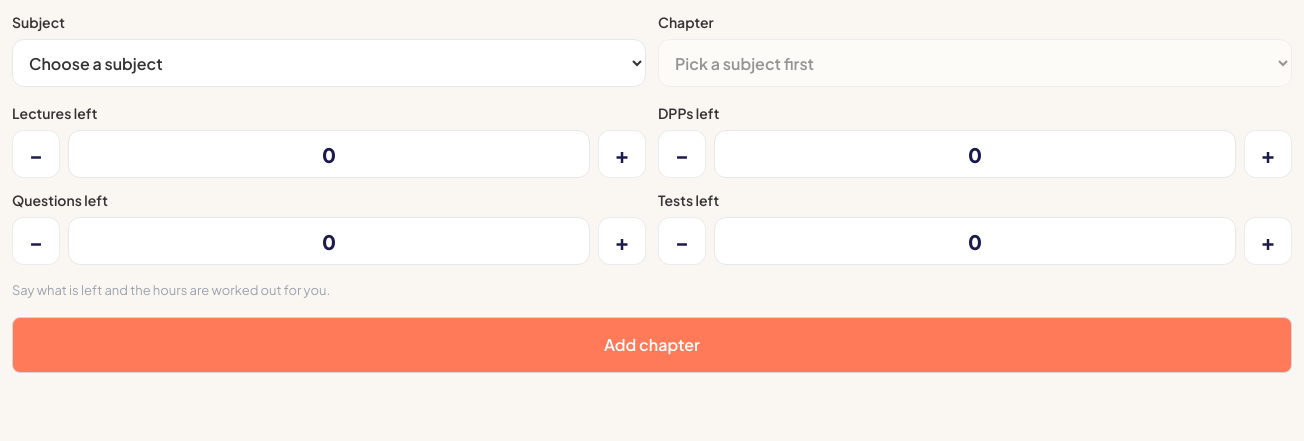
Test case: Backlog fast intake › works out the hours as the numbers are typed, then adds the chapter and says which lane and why
Expected: the text with test id "intake-estimate" shows "Say what is left", [12,282,330,298]
Select "Physics" in the dropdown labelled "Subject" at (329, 63), box [12,39,646,87]
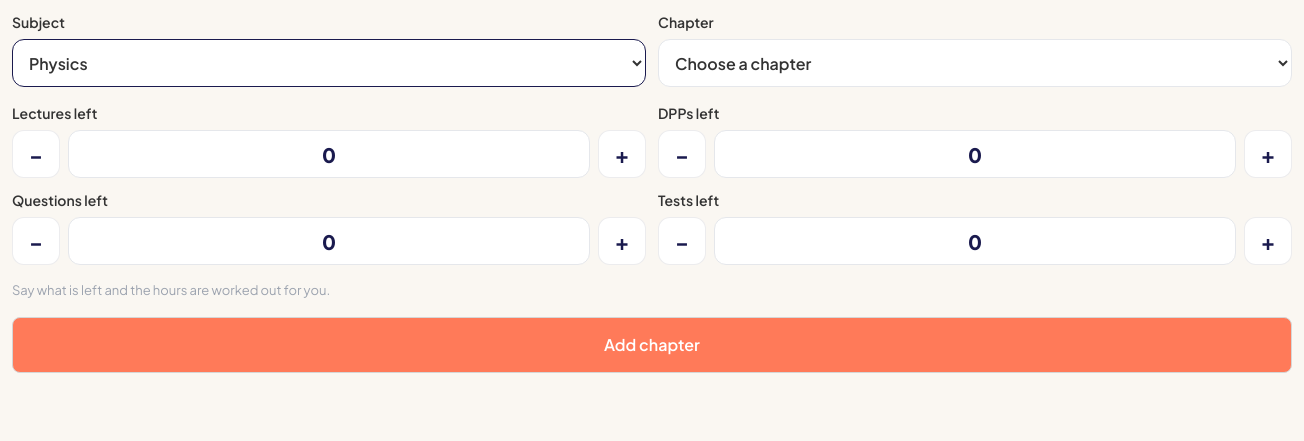
Select "Kinematics" in the dropdown labelled "Chapter" at (975, 63), box [658,39,1292,87]
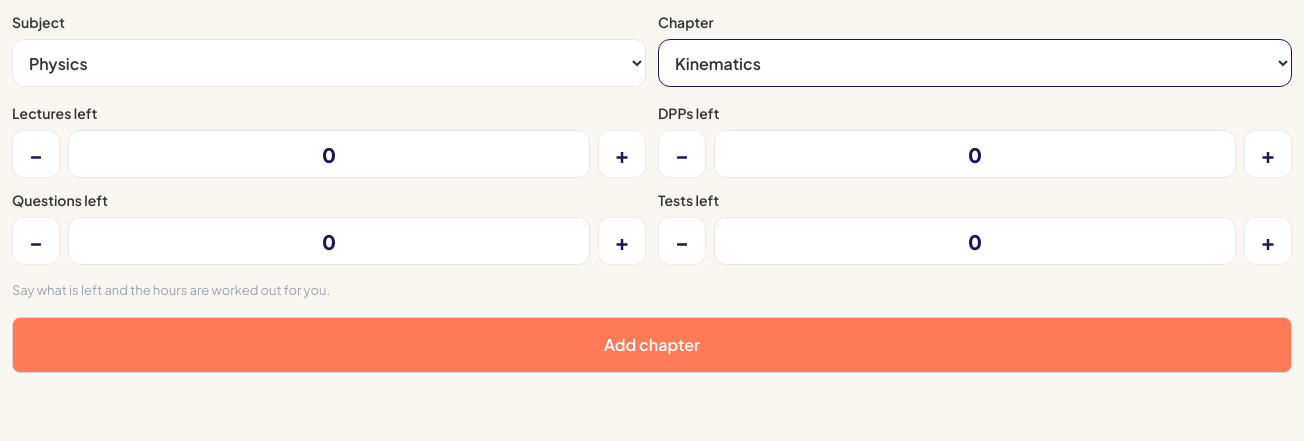
Type "4" into the field with test id "intake-lectures" at (329, 154), box [68,130,590,178]
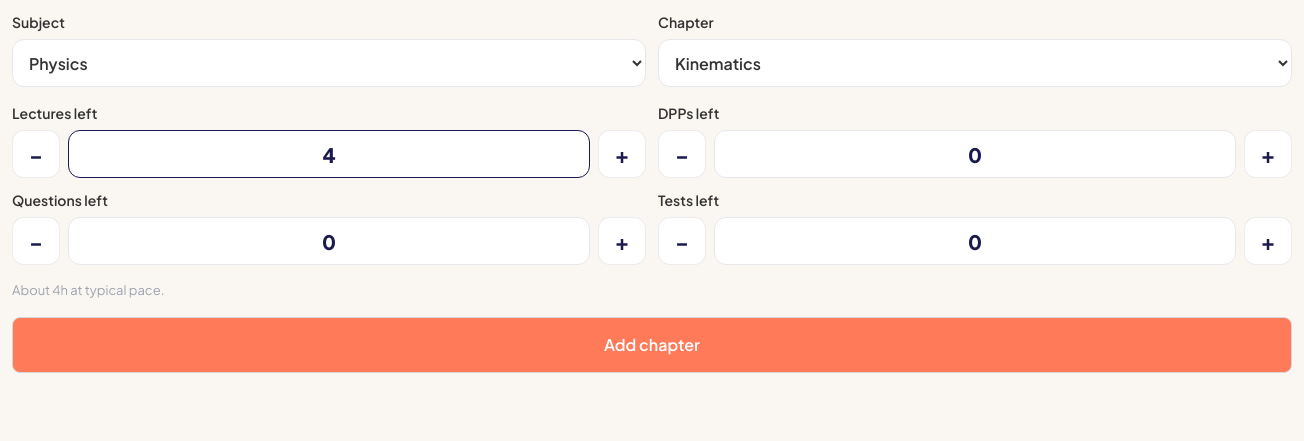
Now the text with test id "intake-estimate" shows "About 4h at typical pace", box [12,282,164,298]
Click the button with test id "intake-submit" at (652, 344), box [12,316,1292,372]
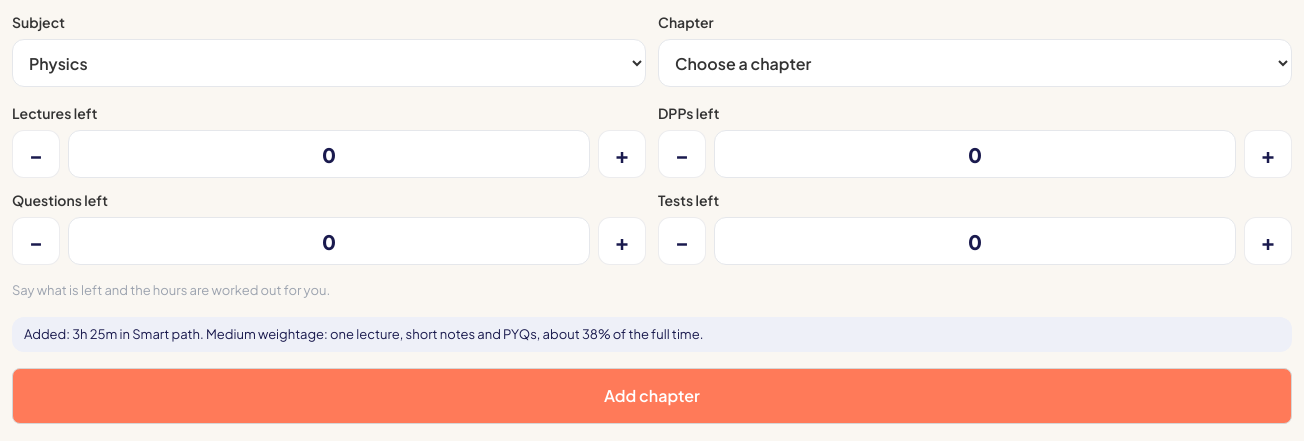
Now the message with test id "intake-done" shows "3h 25m in Smart path. Medium weightage", box [12,316,1292,352]
